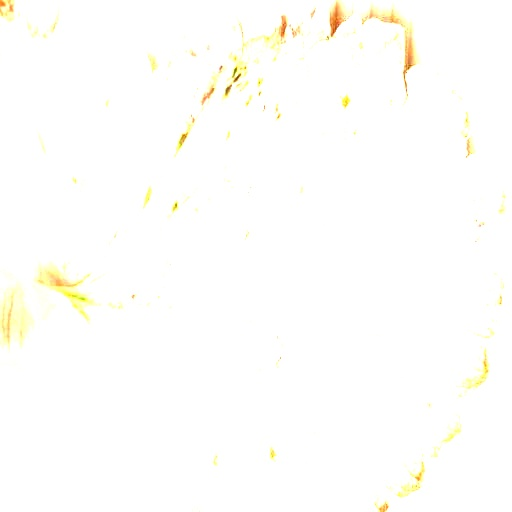Angular Leafspot: (61, 0, 510, 511)
